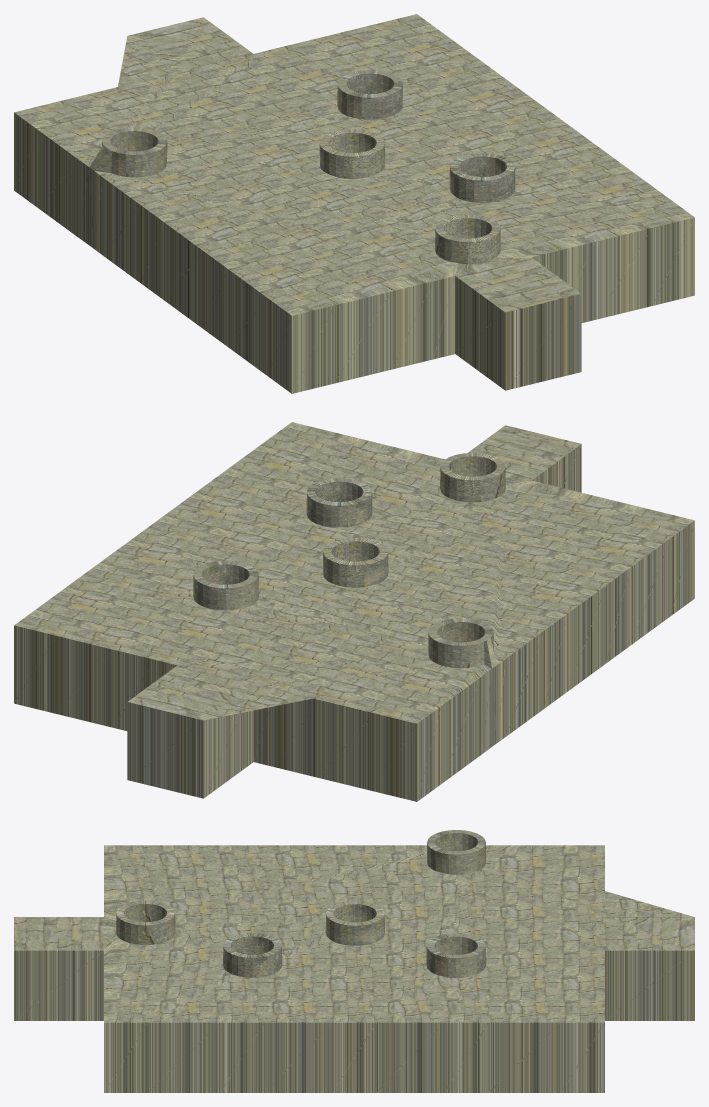
Rendered from SM_LDFest_04_SHADOW.fbx.
3 views of the same model, one above another, from view 1: azimuth 30°, elevation 25°; view 2: azimuth 150°, elevation 25°; view 3: azimuth 270°, elevation 25° (orthographic). The views are drawn at different scales.
Visible parts, largest first — view 1: SM_LDFest_04_SHADOW.002, SM_LDFest_04_SHADOW; view 2: SM_LDFest_04_SHADOW.002, SM_LDFest_04_SHADOW; view 3: SM_LDFest_04_SHADOW.002, SM_LDFest_04_SHADOW.
Part boxes in pixels (x1,y1,x2,y2): SM_LDFest_04_SHADOW.002: (14,14,694,393); SM_LDFest_04_SHADOW: (110,73,506,238); SM_LDFest_04_SHADOW.002: (14,422,694,801); SM_LDFest_04_SHADOW: (201,456,496,642); SM_LDFest_04_SHADOW.002: (14,830,694,1092); SM_LDFest_04_SHADOW: (123,833,478,954).
Size of the model in its own units: 3019 by 717 by 4905.
